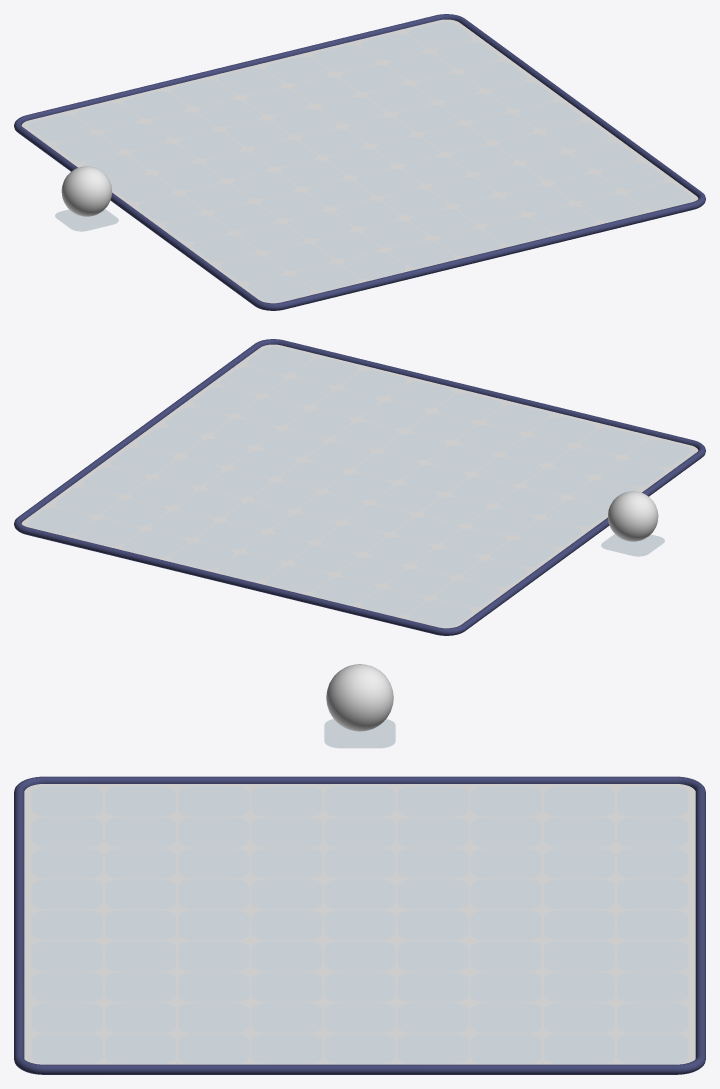
Rendered from Assets Grid and sphere.fbx.
3 renders of one model, top to bottom at view 1: azimuth 30°, elevation 25°; view 2: azimuth 150°, elevation 25°; view 3: azimuth 270°, elevation 25°, orthographic. The views are drawn at different scales.
Parts seen in each view (by area): view 1: Plane.088, Plane.002, Plane.089, Sphere, Plane.090; view 2: Plane.088, Plane.002, Plane.089, Sphere, Plane.090; view 3: Plane.088, Plane.002, Plane.089, Sphere, Plane.090.
Boxes of the visible parts, bbox=[...] form: Plane.088: bbox=[28, 22, 691, 302]; Plane.002: bbox=[21, 19, 698, 303]; Plane.089: bbox=[14, 14, 705, 310]; Sphere: bbox=[61, 166, 111, 216]; Plane.090: bbox=[55, 209, 118, 231]; Plane.088: bbox=[28, 347, 691, 627]; Plane.002: bbox=[21, 344, 698, 628]; Plane.089: bbox=[14, 339, 705, 635]; Sphere: bbox=[608, 491, 658, 541]; Plane.090: bbox=[601, 534, 664, 556]; Plane.088: bbox=[31, 786, 688, 1063]; Plane.002: bbox=[24, 784, 695, 1064]; Plane.089: bbox=[14, 776, 705, 1074]; Sphere: bbox=[326, 664, 393, 731]; Plane.090: bbox=[324, 719, 395, 748].
Size of the model in its own units: 23.75 by 2.79 by 20.49.
